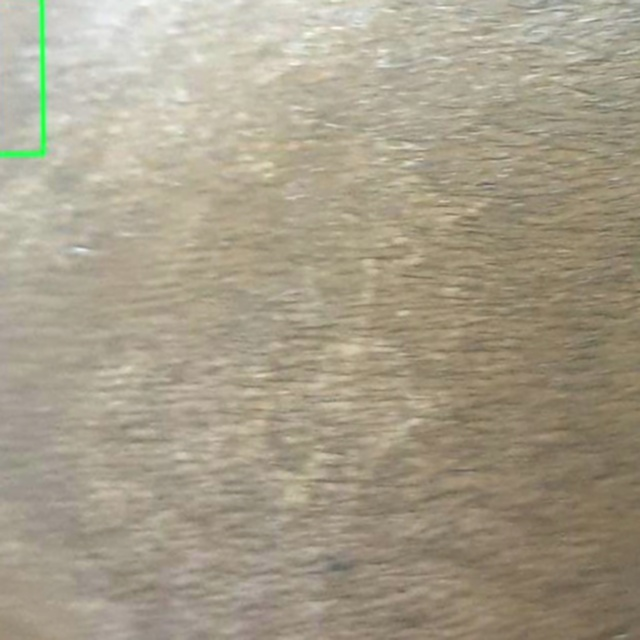Seborrheic Dermatitis: (0, 0, 43, 154)
